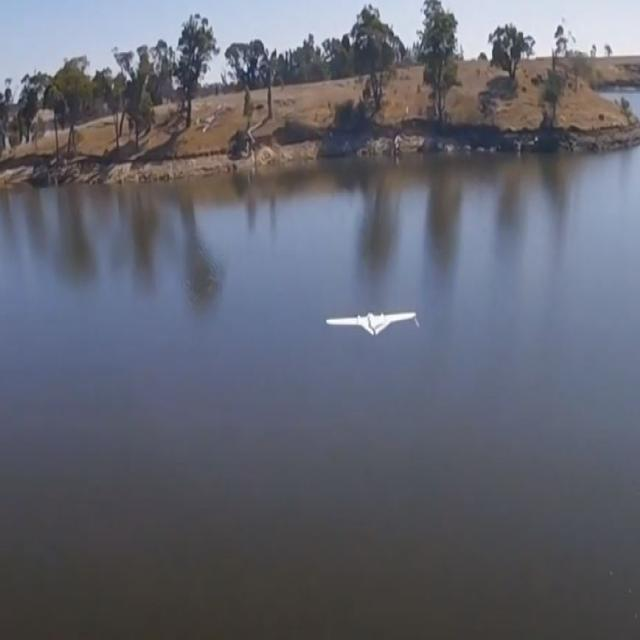iha: (357, 312, 388, 336)
